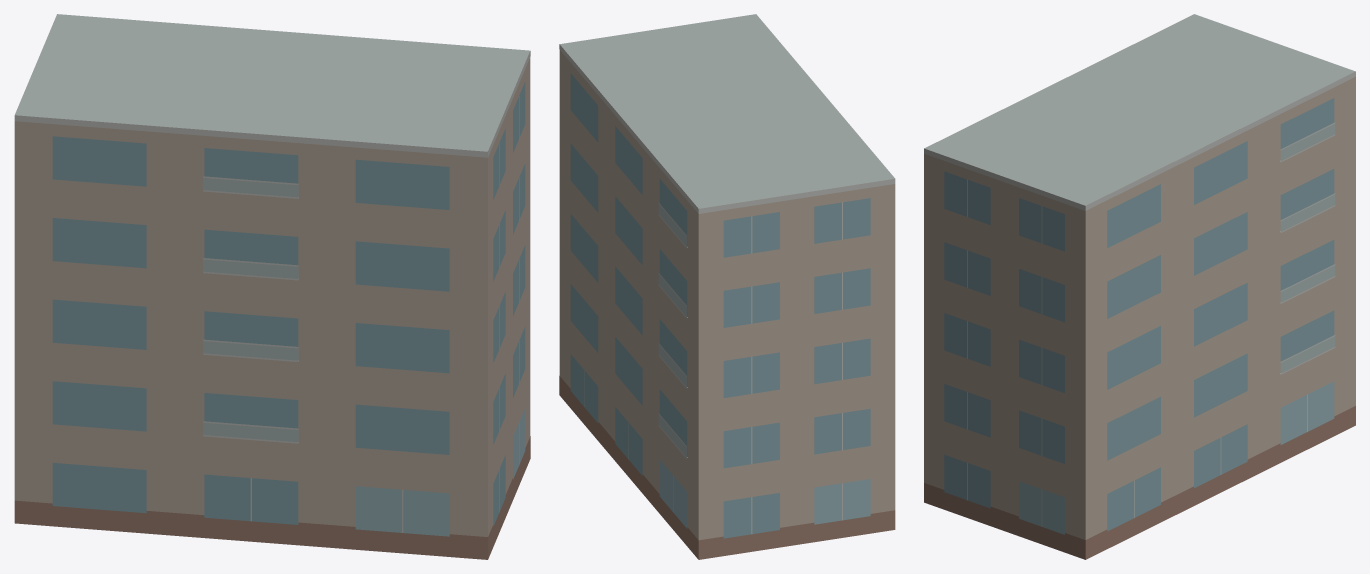
File: survey-upis-33037361.glb
3 views of the same model, side by side, from view 1: azimuth 30°, elevation 25°; view 2: azimuth 150°, elevation 25°; view 3: azimuth 270°, elevation 25° (orthographic). The views are drawn at different scales.
Visible parts, largest first — view 1: survey-upis-33037361.tmp; view 2: survey-upis-33037361.tmp; view 3: survey-upis-33037361.tmp.
Boxes of the visible parts, <box> form: survey-upis-33037361.tmp: <box>14,14,530,559</box>; survey-upis-33037361.tmp: <box>559,14,895,559</box>; survey-upis-33037361.tmp: <box>924,14,1355,559</box>.
Size of the model in its own units: 19.53 by 16.8 by 18.57.
